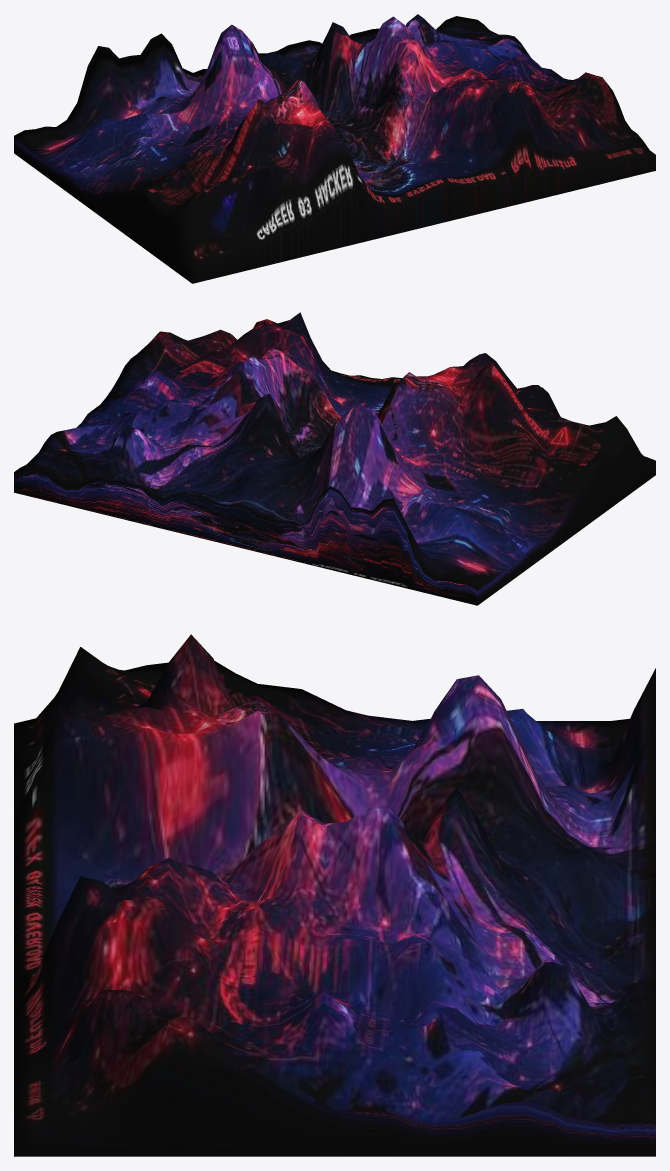
Rendered from CAREER_03_VFX_04_Overload.glb.
3 renders of one model, top to bottom at view 1: azimuth 30°, elevation 25°; view 2: azimuth 150°, elevation 25°; view 3: azimuth 270°, elevation 25°, orthographic. The views are drawn at different scales.
Parts seen in each view (by area): view 1: CAREER_03_VFX_04_Overload; view 2: CAREER_03_VFX_04_Overload; view 3: CAREER_03_VFX_04_Overload.
Part boxes in pixels (x1,y1,x2,y2): CAREER_03_VFX_04_Overload: [14, 14, 655, 283]; CAREER_03_VFX_04_Overload: [14, 312, 655, 605]; CAREER_03_VFX_04_Overload: [14, 634, 655, 1156].
Size of the model in its own units: 2 by 0.51 by 1.33.
1 material, 1 textured.
